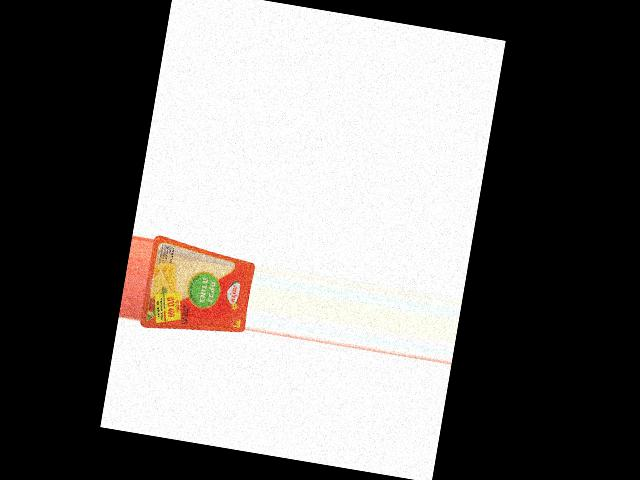cheese: (138, 234, 257, 344)
